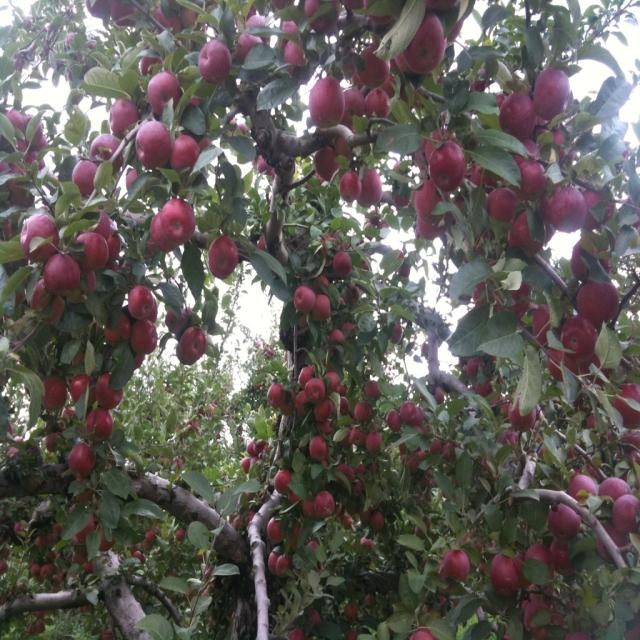Healty Apple: (0, 0, 639, 639), (426, 130, 474, 199)
